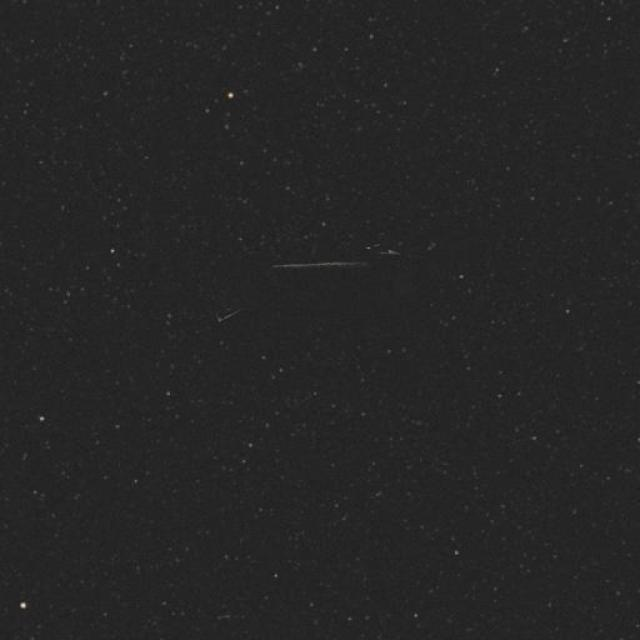xmm_newton: (109, 216, 445, 384)
